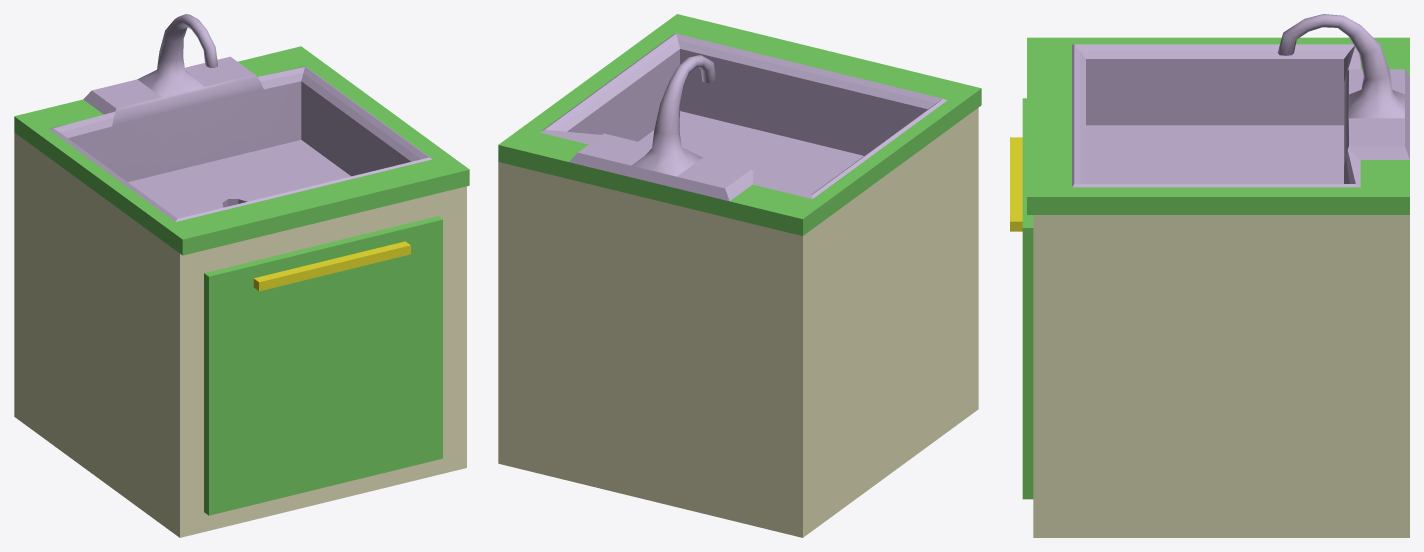
File: Sink.fbx
The picture shows the model from 3 angles, left to right: view 1: azimuth 30°, elevation 25°; view 2: azimuth 150°, elevation 25°; view 3: azimuth 270°, elevation 25°; orthographic projection. The views are drawn at different scales.
Visible parts, largest first — view 1: pCube1; view 2: pCube1; view 3: pCube1.
Part boxes in pixels (left/top/right/bottom): pCube1: left=14, top=14, right=469, bottom=537; pCube1: left=498, top=14, right=981, bottom=537; pCube1: left=1010, top=14, right=1409, bottom=537.
Bounding box in the file's own units: 13.18 × 17.14 × 14.
